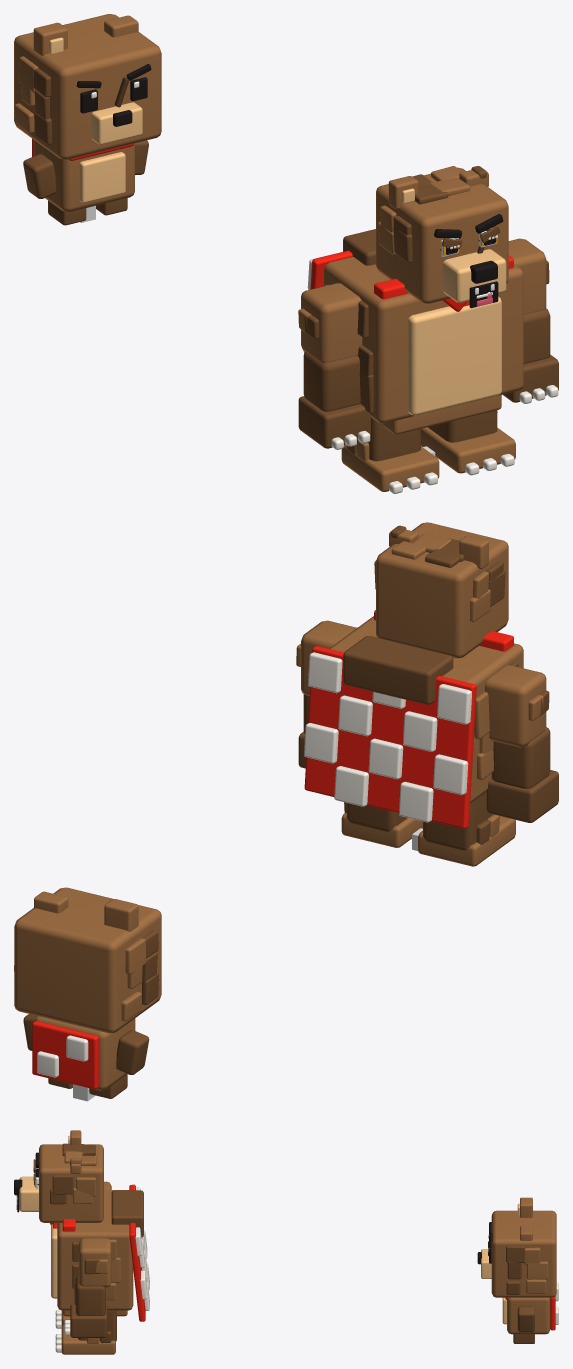
The model's file is Restyle_B01.fbx.
3 views of the same model, one above another, from view 1: azimuth 30°, elevation 25°; view 2: azimuth 150°, elevation 25°; view 3: azimuth 270°, elevation 25° (orthographic). The views are drawn at different scales.
Visible parts, largest first — view 1: P01__Head, B01__Body, B01__Head, B01__Body_Light, B01__RightUpperArm, B01__RightLowerArm, B01__RightLeg_Fur, P01__Body, P01__Body_FurDark, B01__LeftLeg_Fur, B01__RightHand, B01__Body_FurDark (+14 smaller); view 2: P01__Head, B01__Head, B01__Body_Cape, B01__Body_White, B01__Body_FurDark, B01__Body, B01__RightUpperArm, P01__Body_Cape, B01__RightLowerArm, B01__RightHand, P01__Body_FurDark, B01__RightLeg_Fur (+8 smaller); view 3: P01__Head, B01__Head, B01__Body, B01__Body_FurDark, B01__LeftUpperArm, P01__Body, B01__Head_FurDark, B01__Body_Cape, B01__LeftLowerArm, B01__LeftHand, B01__LeftLeg_Fur, P01__Head_FurDark (+6 smaller).
Boxes of the visible parts, x1,y1,x2,y2 form: P01__Head: (14,14,161,159); B01__Body: (323,257,523,434); B01__Head: (376,166,508,303); B01__Body_Light: (407,296,501,415); B01__RightUpperArm: (298,283,362,362); B01__RightLowerArm: (303,351,360,411); B01__RightLeg_Fur: (341,441,439,491); P01__Body: (33,140,134,211); P01__Body_FurDark: (23,140,148,225); B01__LeftLeg_Fur: (421,412,515,473); B01__RightHand: (298,396,370,448); B01__Body_FurDark: (343,229,375,413); P01__Head: (14,887,161,1033); B01__Head: (374,522,508,658); B01__Body_Cape: (304,610,513,828); B01__Body_White: (304,652,471,822); B01__Body_FurDark: (343,636,518,704); B01__Body: (329,616,523,803); B01__RightUpperArm: (485,665,546,747); P01__Body_Cape: (32,1021,98,1089); B01__RightLowerArm: (491,727,550,788); B01__RightHand: (486,770,558,822); P01__Body_FurDark: (23,1014,149,1098); B01__RightLeg_Fur: (418,814,515,866); P01__Head: (491,1197,556,1297); B01__Head: (39,1130,103,1222); B01__Body: (57,1190,133,1316); B01__Body_FurDark: (72,1190,143,1304); B01__LeftUpperArm: (79,1238,111,1287); P01__Body: (507,1297,550,1334); B01__Head_FurDark: (50,1143,95,1204); B01__Body_Cape: (53,1184,145,1321); B01__LeftLowerArm: (75,1276,105,1315); B01__LeftHand: (70,1303,107,1337); B01__LeftLeg_Fur: (61,1325,115,1354); P01__Head_FurDark: (506,1245,525,1294).
Bounding box in the file's own units: 1612 × 1990 × 5030.
